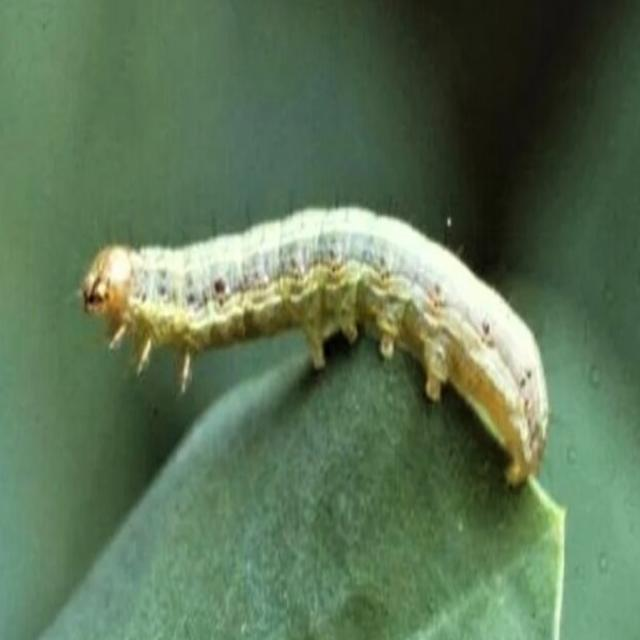armyworm: (79, 202, 550, 490)
